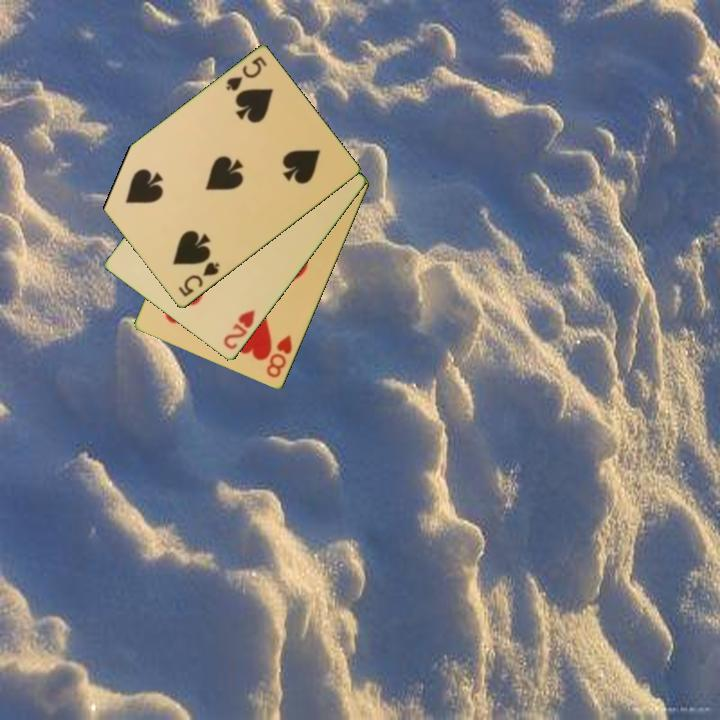2h: (220, 306, 258, 353)
5s: (174, 258, 223, 300), (222, 53, 270, 94)
8h: (263, 331, 295, 381)
